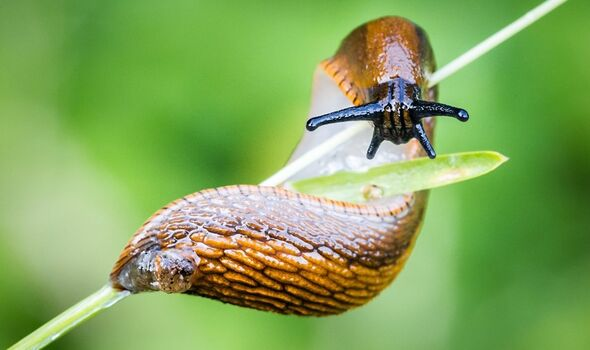slug: (113, 16, 468, 320)
